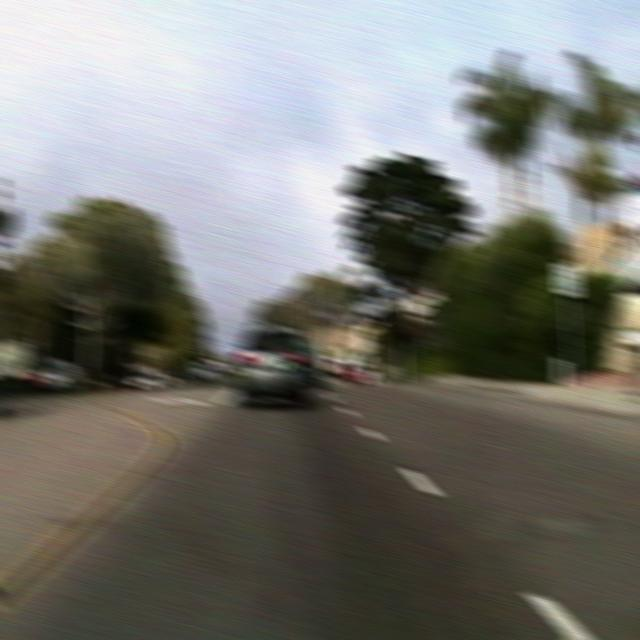speedLimit40: (554, 261, 581, 295)
